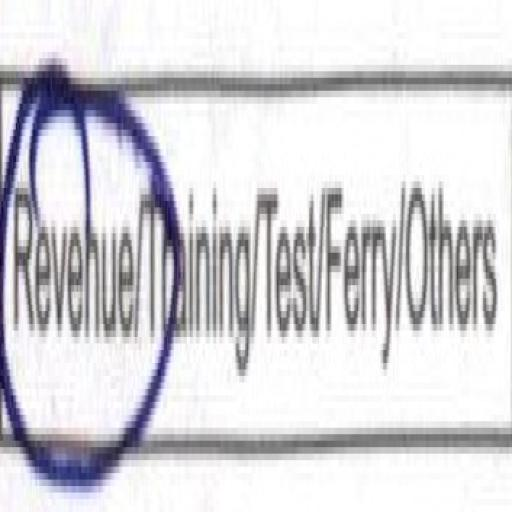check: (2, 3, 140, 475)
